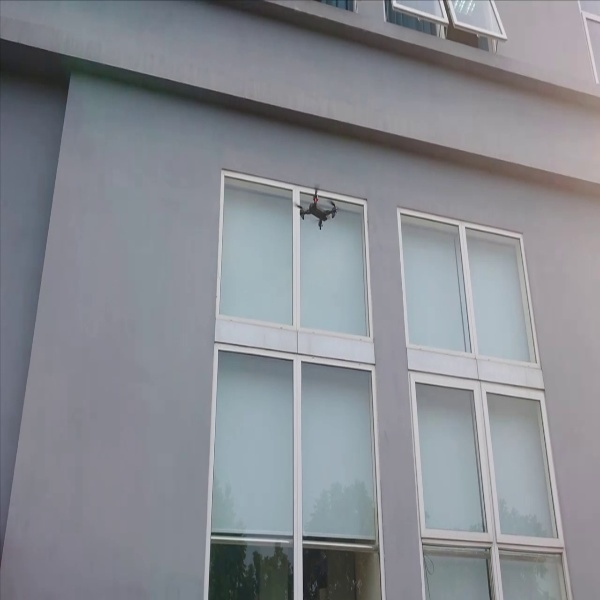drone: (285, 184, 345, 230)
